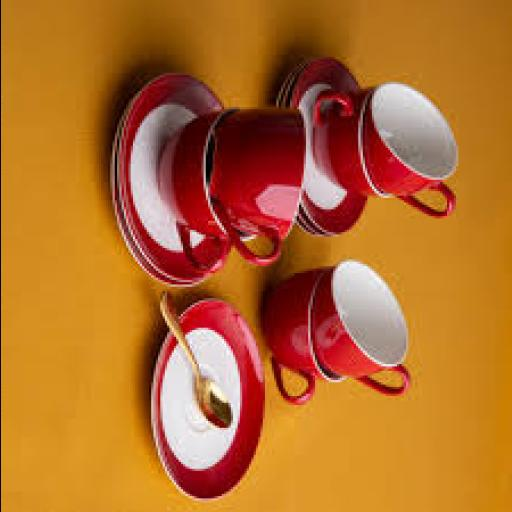red mug: (214, 109, 305, 264), (312, 262, 410, 394), (364, 82, 457, 216), (159, 112, 234, 271), (264, 269, 341, 403), (314, 89, 387, 193)
